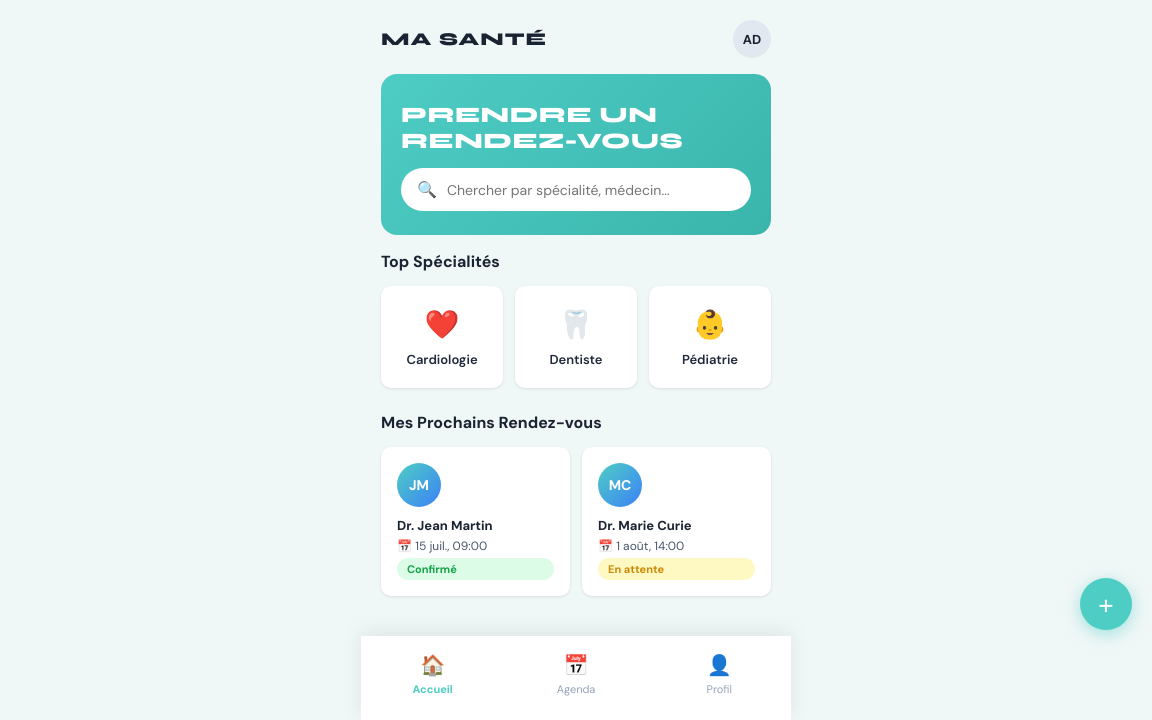
Test: appointment form modal opens when FAB is clicked
Expected: the heading "Top Spécialités" is shown, [381, 251, 500, 272]
Click the button "+" at (1106, 604), box [1080, 578, 1132, 630]
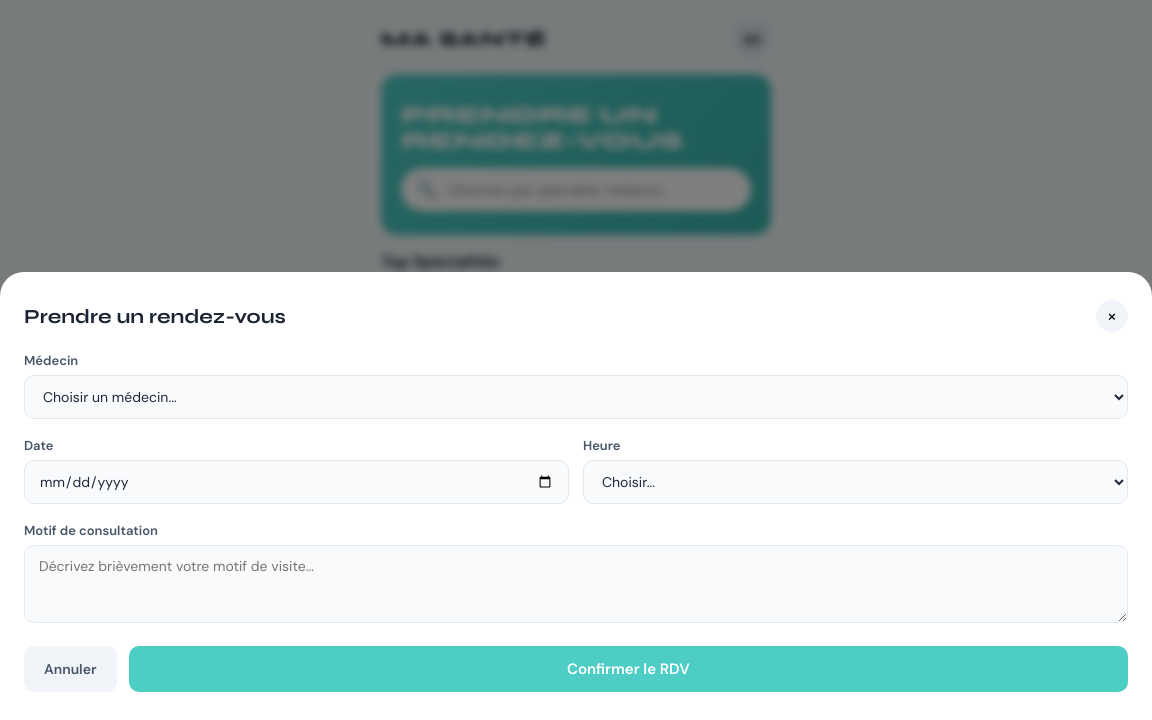
Expected: the heading "Prendre un rendez-vous" is shown, [24, 304, 286, 328]
